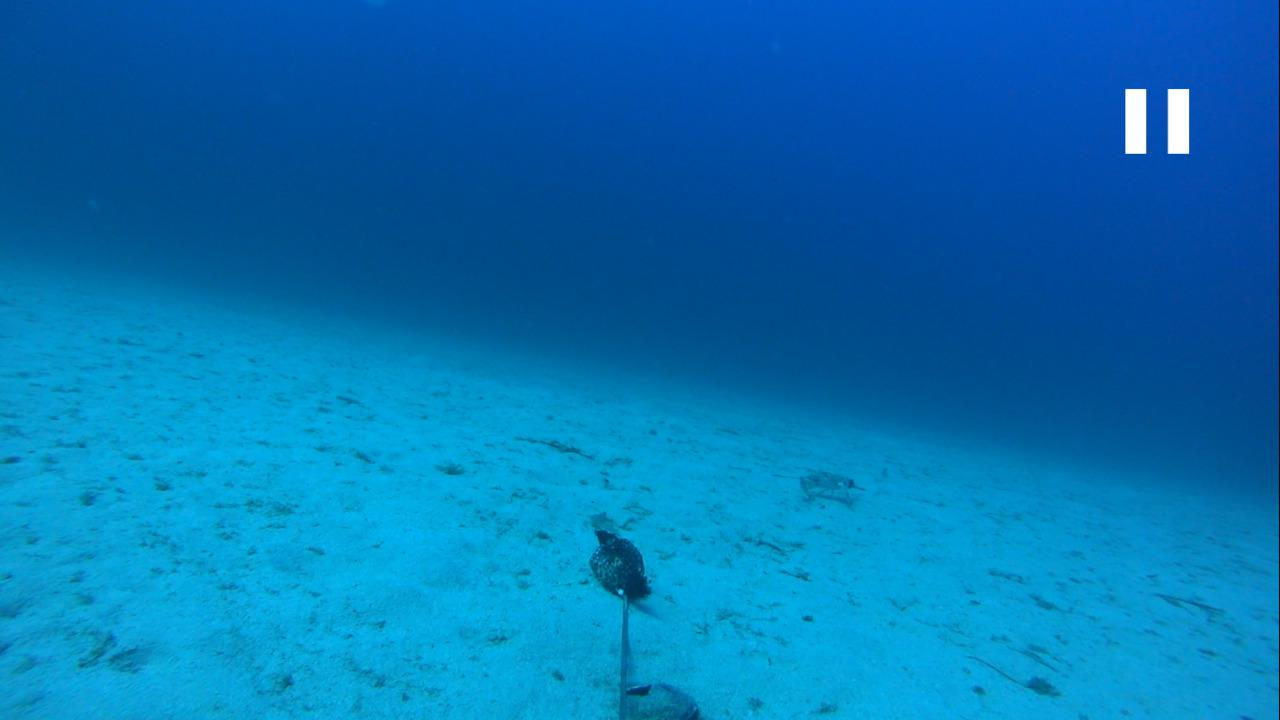dactylopterus: (786, 461, 870, 511)
